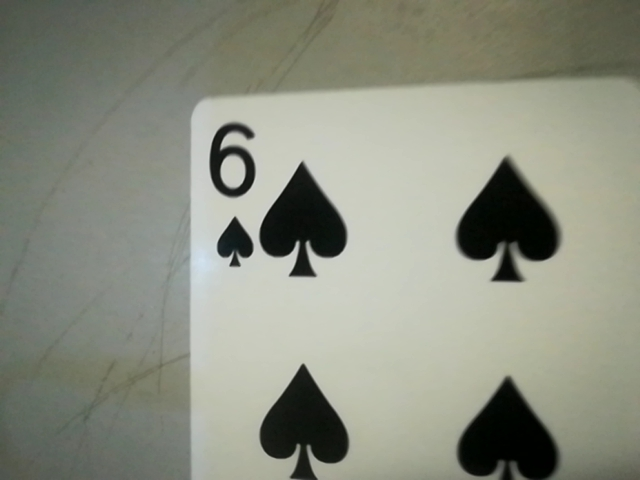ht 6: (195, 111, 262, 278)
